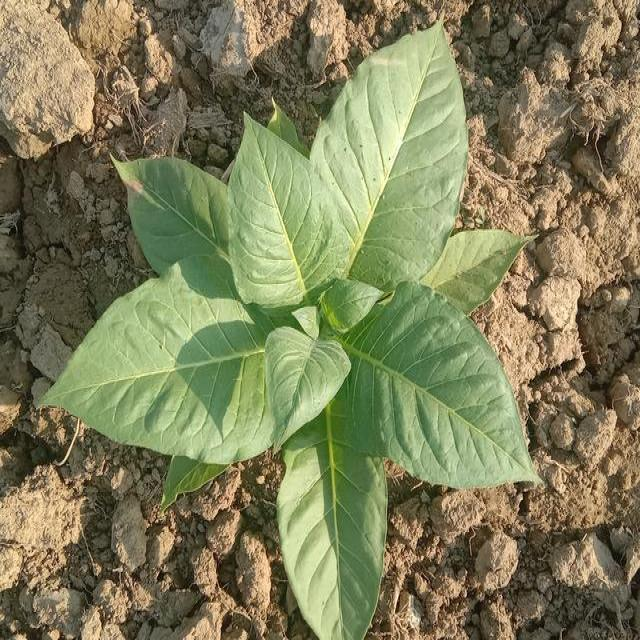crop: (48, 15, 542, 640)
